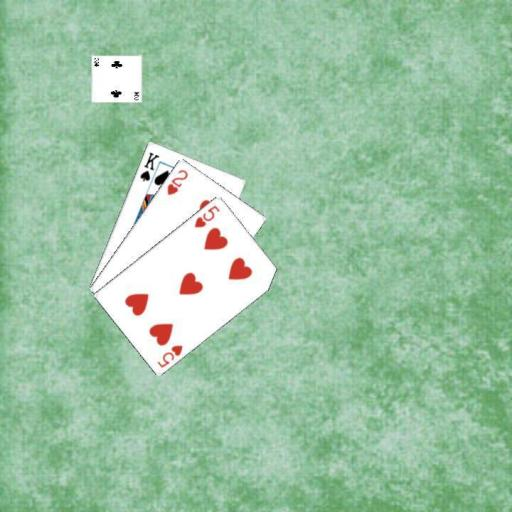card-corner: (154, 341, 184, 369), (136, 148, 160, 182), (163, 166, 190, 196), (191, 202, 221, 229)
